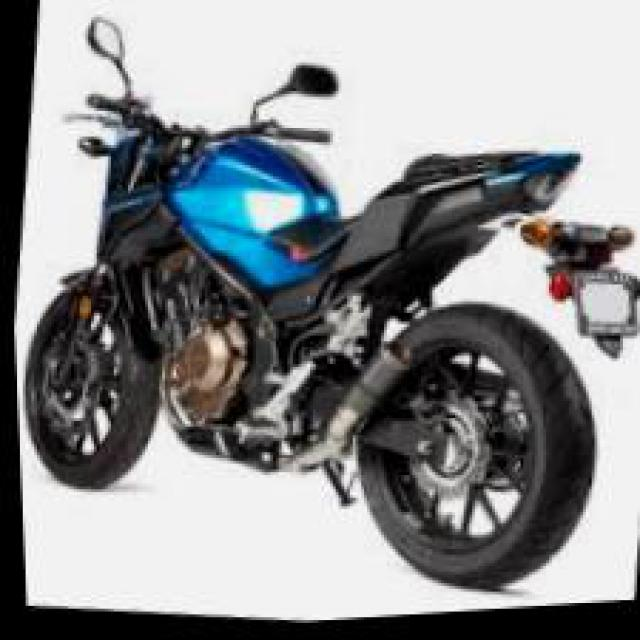CB500F: (3, 63, 637, 634)
